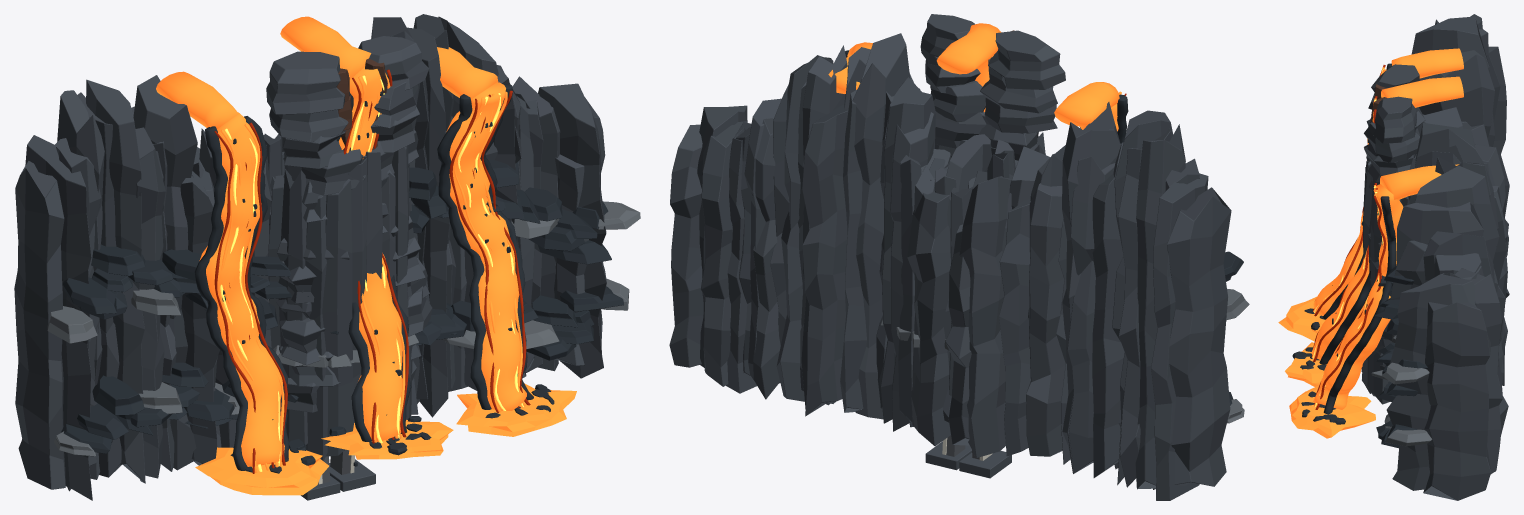
File: cindercoil-hero-kit-v5.glb
3 renders of one model, left to right at view 1: azimuth 30°, elevation 25°; view 2: azimuth 150°, elevation 25°; view 3: azimuth 270°, elevation 25°, orthographic. The views are drawn at different scales.
Visible parts, largest first — view 1: rupture_wall__Basalt, rupture_wall__Blackglass, hollow_tower__Basalt, cascade_0__Lava, cascade_2__Lava, rupture_left__Basalt, cascade_1__Lava, rupture_right__Basalt, rupture_wall__Ash, cascade_0__Blackglass, cascade_2__Blackglass, cascade_1__Blackglass (+7 smaller); view 2: rupture_wall__Basalt, rupture_left__Basalt, hollow_tower__Basalt, rupture_right__Basalt, cascade_1__Lava, cascade_0__Lava, broken_launch_pylon__Basalt, rupture_wall__Ash; view 3: rupture_wall__Basalt, cascade_2__Lava, rupture_right__Basalt, cascade_1__Lava, cascade_0__Lava, cascade_2__Blackglass, hollow_tower__Basalt, rupture_wall__Blackglass, rupture_wall__Ash, cascade_1__Blackglass, rupture_left__Basalt, cascade_2__Lava.002 (+3 smaller).
Boxes of the visible parts, x1,y1,x2,y2 form: rupture_wall__Basalt: [14, 14, 606, 500]; rupture_wall__Blackglass: [61, 160, 623, 453]; hollow_tower__Basalt: [252, 119, 412, 460]; cascade_0__Lava: [156, 71, 328, 495]; cascade_2__Lava: [437, 47, 576, 436]; rupture_left__Basalt: [266, 51, 365, 412]; cascade_1__Lava: [280, 16, 453, 459]; rupture_right__Basalt: [358, 36, 432, 380]; rupture_wall__Ash: [47, 201, 640, 456]; cascade_0__Blackglass: [194, 116, 315, 473]; cascade_2__Blackglass: [437, 84, 554, 418]; cascade_1__Blackglass: [329, 91, 431, 455]; rupture_wall__Basalt: [669, 33, 1231, 500]; rupture_left__Basalt: [978, 30, 1065, 167]; hollow_tower__Basalt: [898, 132, 1045, 425]; rupture_right__Basalt: [920, 14, 986, 157]; cascade_1__Lava: [936, 23, 1001, 112]; cascade_0__Lava: [1054, 82, 1121, 131]; broken_launch_pylon__Basalt: [925, 441, 1011, 478]; rupture_wall__Ash: [1226, 289, 1249, 423]; rupture_wall__Basalt: [1386, 14, 1509, 500]; cascade_2__Lava: [1289, 164, 1459, 438]; rupture_right__Basalt: [1364, 96, 1419, 369]; cascade_1__Lava: [1285, 76, 1463, 386]; cascade_0__Lava: [1278, 48, 1463, 341]; cascade_2__Blackglass: [1301, 196, 1396, 424]; hollow_tower__Basalt: [1361, 161, 1409, 404]; rupture_wall__Blackglass: [1374, 266, 1427, 448]; rupture_wall__Ash: [1371, 334, 1432, 446]; cascade_1__Blackglass: [1292, 250, 1371, 370]; rupture_left__Basalt: [1361, 64, 1425, 225]; cascade_2__Lava.002: [1314, 183, 1386, 409].
Size of the model in its own units: 485 by 364 by 216.
